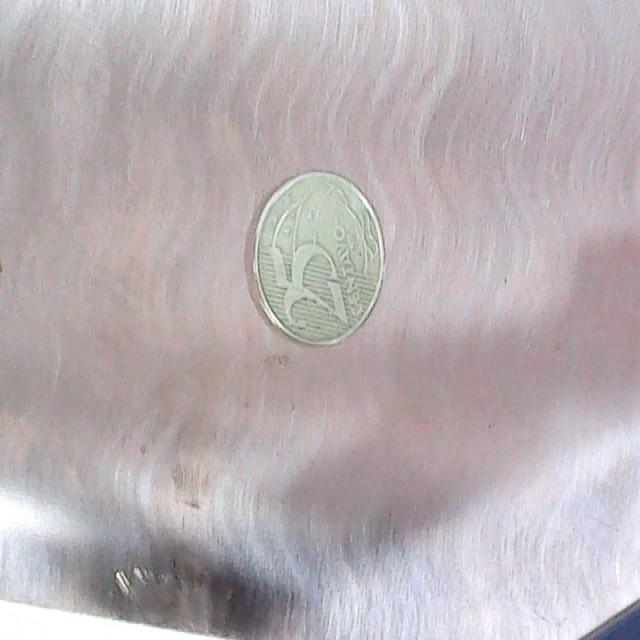25 cents: (240, 165, 390, 352)
